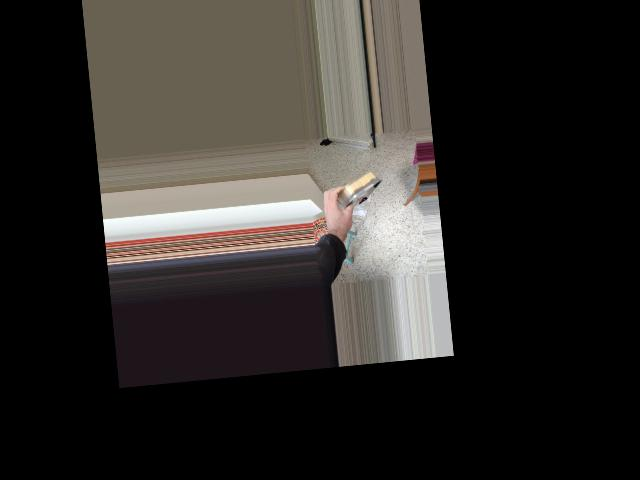cheese: (311, 160, 387, 223)
